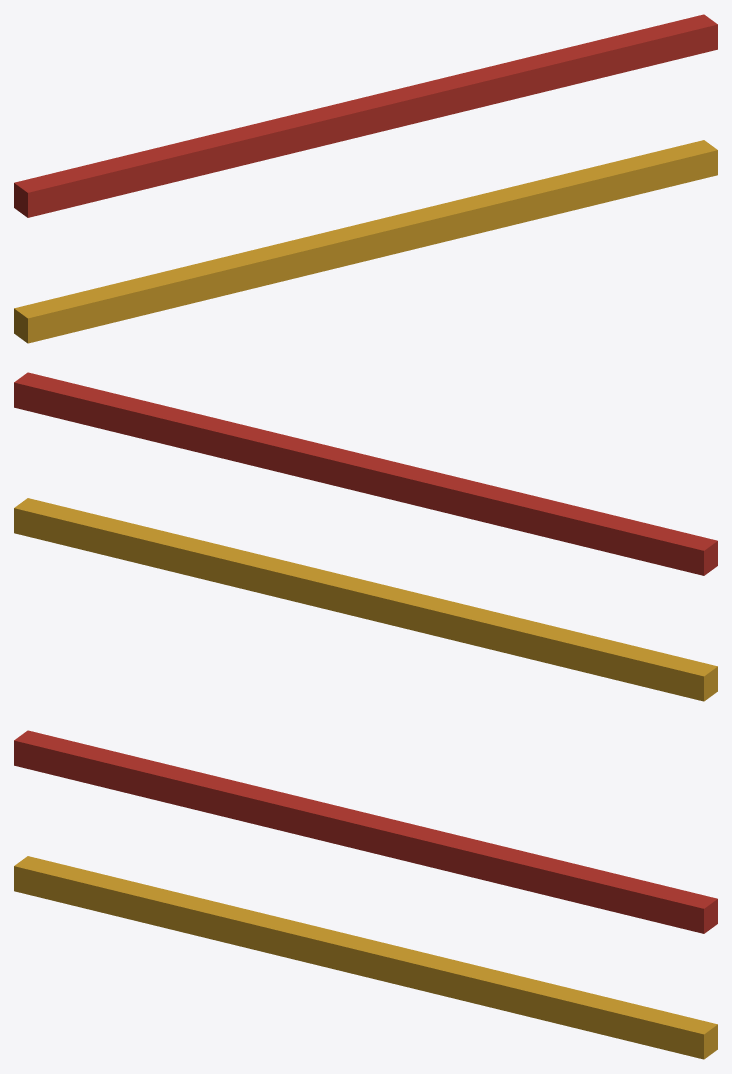
File: cover.weapon_crate_stack.glb
3 renders of one model, top to bottom at view 1: azimuth 30°, elevation 25°; view 2: azimuth 150°, elevation 25°; view 3: azimuth 330°, elevation 25°, orthographic.
Parts seen in each view (by area): view 1: ammo_band_a, ammo_band_b; view 2: ammo_band_a, ammo_band_b; view 3: ammo_band_a, ammo_band_b.
Boxes of the visible parts, box(x1,y1,x2,y2) form: ammo_band_a: box(14, 140, 717, 343); ammo_band_b: box(14, 14, 717, 217); ammo_band_a: box(14, 498, 717, 701); ammo_band_b: box(14, 372, 717, 575); ammo_band_a: box(14, 856, 717, 1059); ammo_band_b: box(14, 730, 717, 933).
Size of what is drawn, in the model's own units: 2.3 by 0.48 by 0.08.
